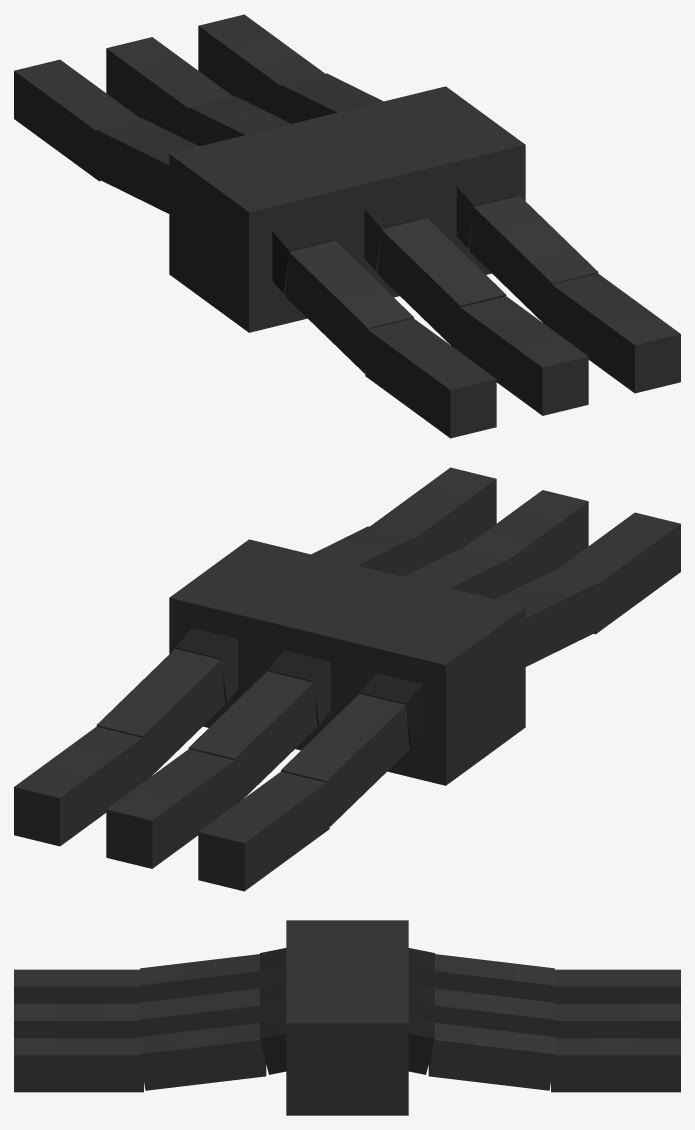
File: cables.obj
The picture shows the model from 3 angles, top to bottom: view 1: azimuth 30°, elevation 25°; view 2: azimuth 150°, elevation 25°; view 3: azimuth 270°, elevation 25°; orthographic projection. The views are drawn at different scales.
Parts seen in each view (by area): view 1: cube; view 2: cube; view 3: cube.
Boxes of the visible parts, x1,y1,x2,y2 form: cube: (14, 14, 680, 438); cube: (14, 467, 680, 891); cube: (14, 920, 680, 1115).
Bounding box in the file's own units: 0.1875 × 0.0781 × 0.5125.
Materials: 1 (1 with a texture image).
